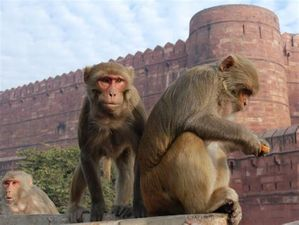monkey: (150, 36, 259, 225), (29, 49, 145, 214), (5, 145, 53, 225)
